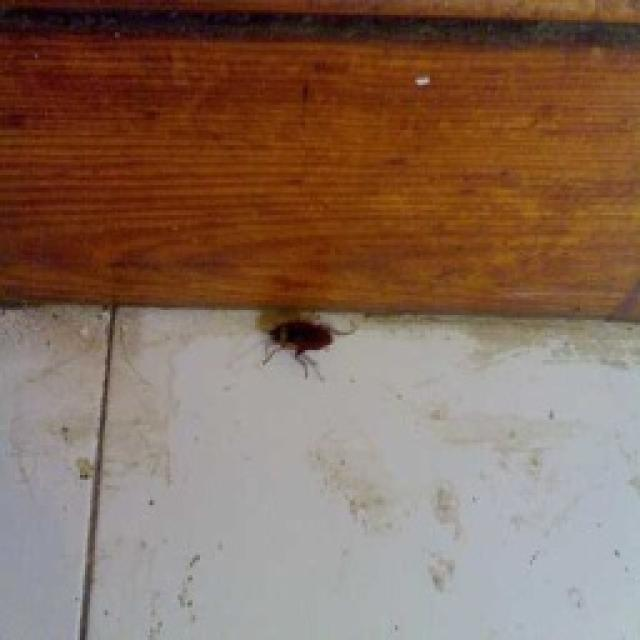cockroach: (253, 305, 361, 384)
